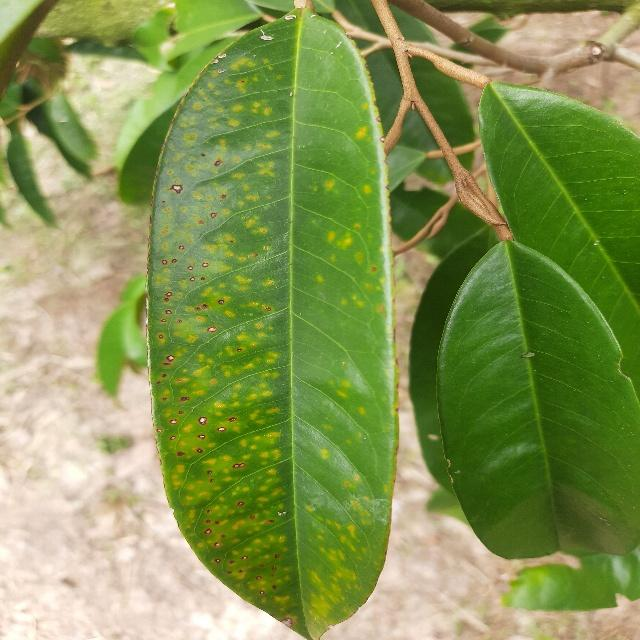Leaf Spot: (139, 0, 405, 640)
